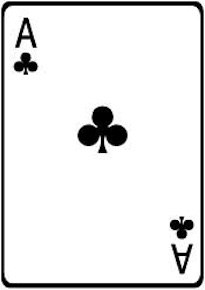AceOfClubs: (2, 3, 204, 284)
